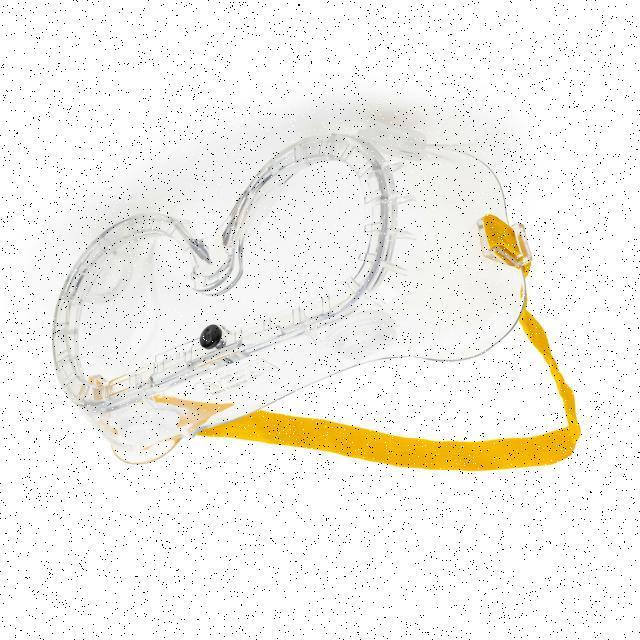Goggles: (55, 154, 306, 454)
